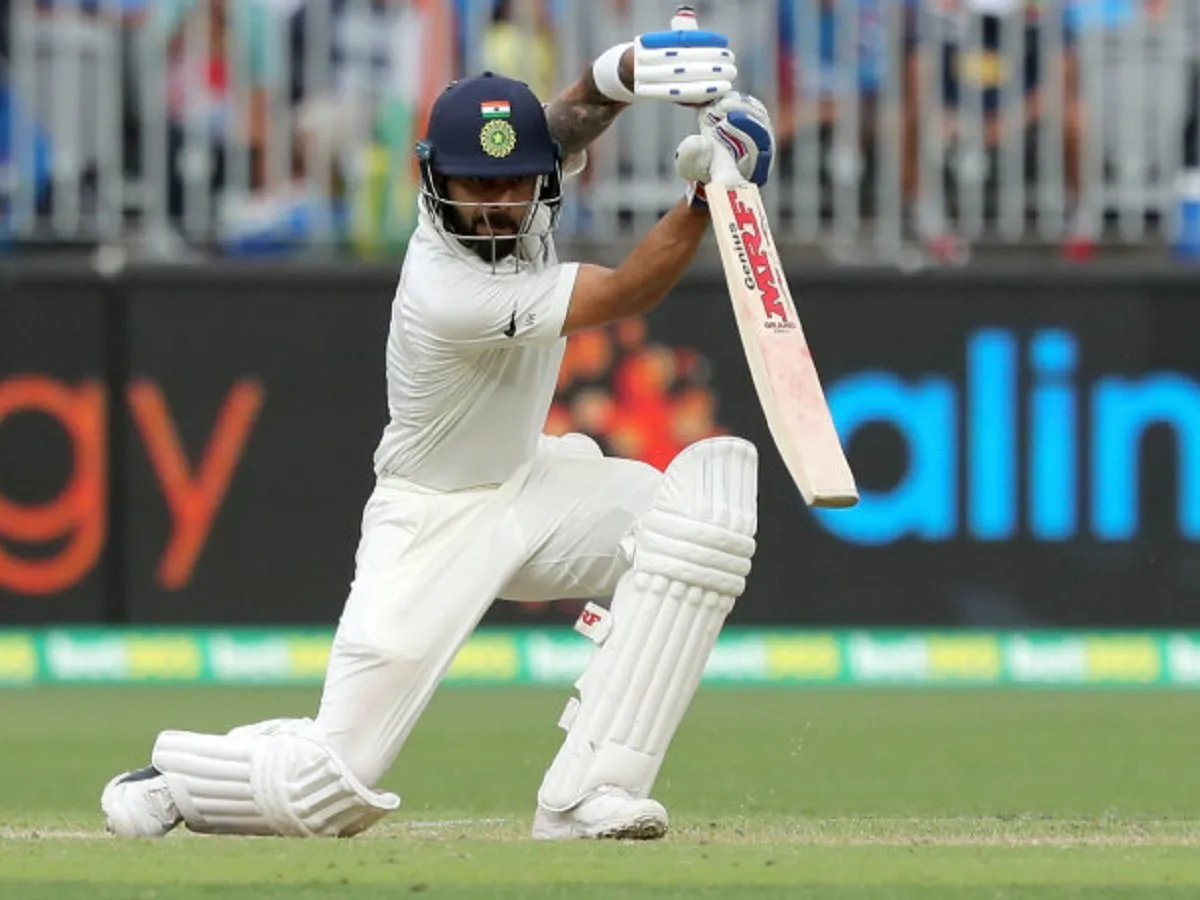Defence: (27, 0, 1088, 900)
